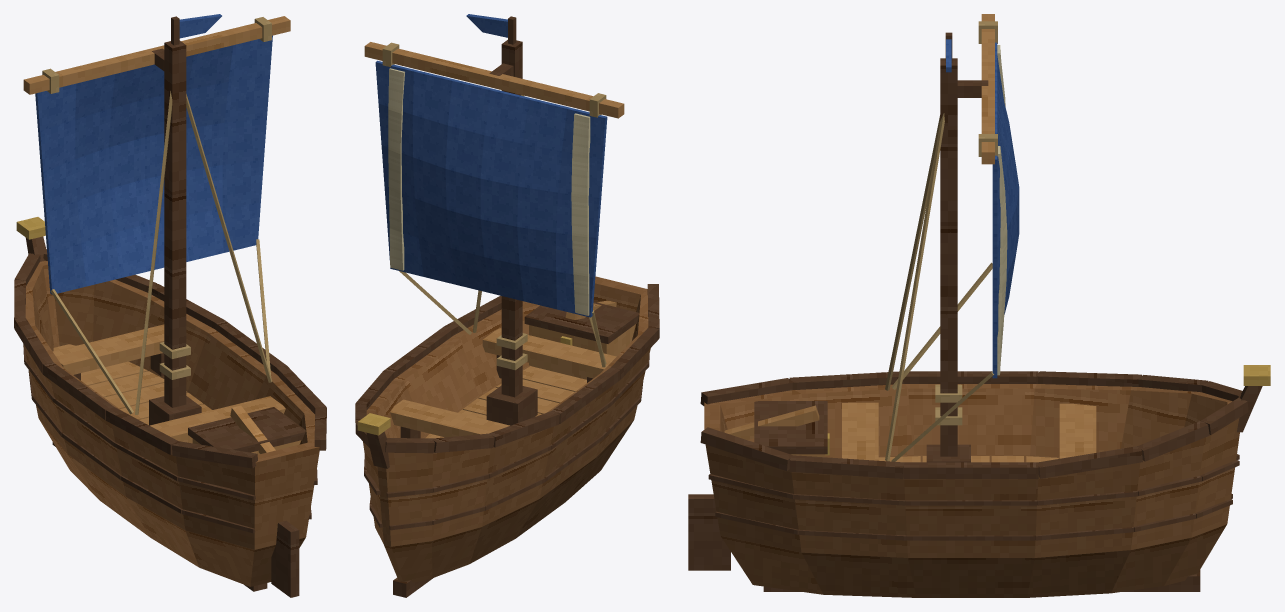
File: human_embark_boat_v1.glb
3 renders of one model, left to right at view 1: azimuth 30°, elevation 25°; view 2: azimuth 150°, elevation 25°; view 3: azimuth 270°, elevation 25°, orthographic. The views are drawn at different scales.
Parts seen in each view (by area): view 1: Hull, Sail, Rig, Deck; view 2: Sail, Hull, Deck, Rig; view 3: Hull, Rig, Deck, Sail.
Part boxes in pixels (left/top/right/bottom): Hull: left=14, top=217, right=326, bottom=591; Sail: left=35, top=35, right=272, bottom=294; Rig: left=23, top=14, right=299, bottom=597; Deck: left=53, top=324, right=305, bottom=454; Sail: left=375, top=60, right=607, bottom=317; Hull: left=355, top=276, right=659, bottom=597; Deck: left=390, top=302, right=639, bottom=438; Rig: left=364, top=14, right=624, bottom=425; Hull: left=700, top=365, right=1270, bottom=597; Rig: left=688, top=14, right=997, bottom=570; Deck: left=754, top=401, right=1096, bottom=462; Sail: left=992, top=42, right=1019, bottom=378.
Size of the model in its own units: 1.7 by 3.17 by 3.02.
Materials: 1 (1 with a texture image).
